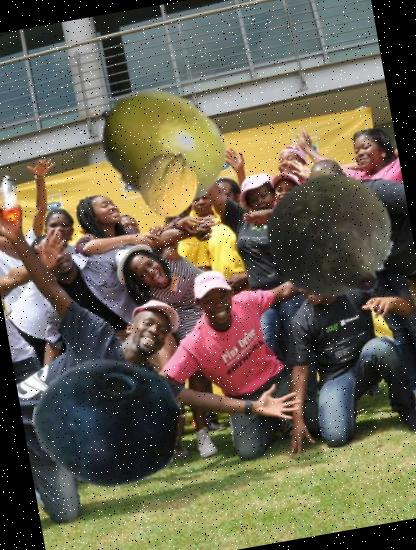Beetroot: (254, 161, 410, 318)
Blueberry: (20, 338, 188, 506)
Cantaloupe: (130, 146, 206, 222)
Maracuja: (86, 68, 240, 224)
Potato: (289, 158, 382, 250)
